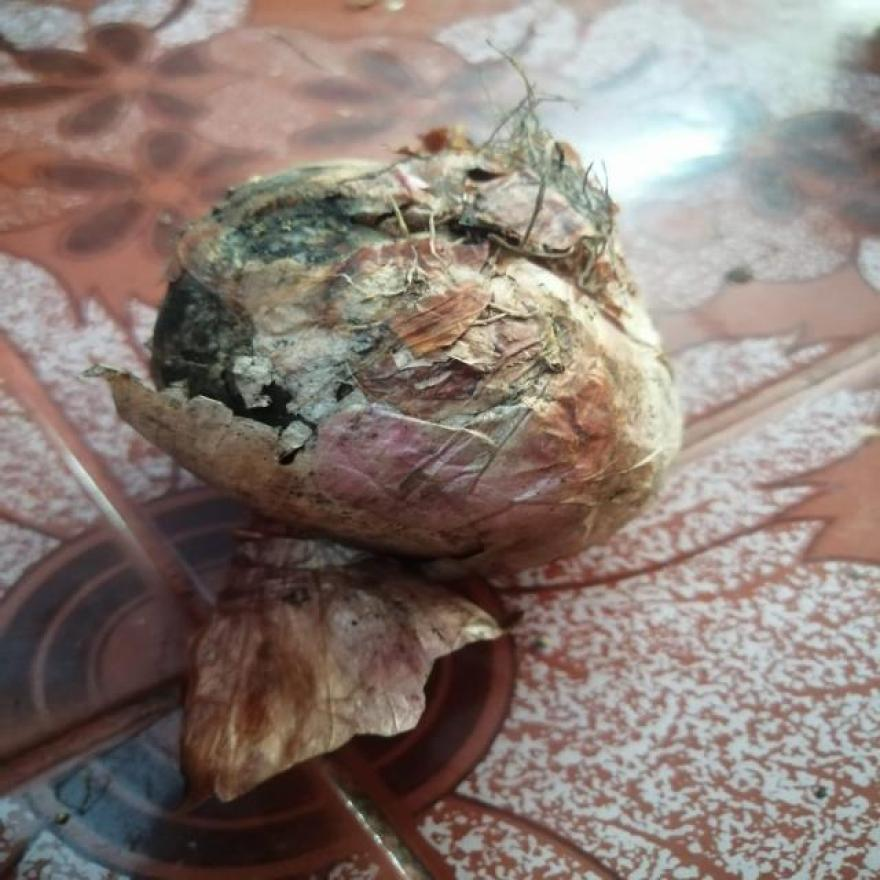Rotten: (228, 192, 380, 408)
